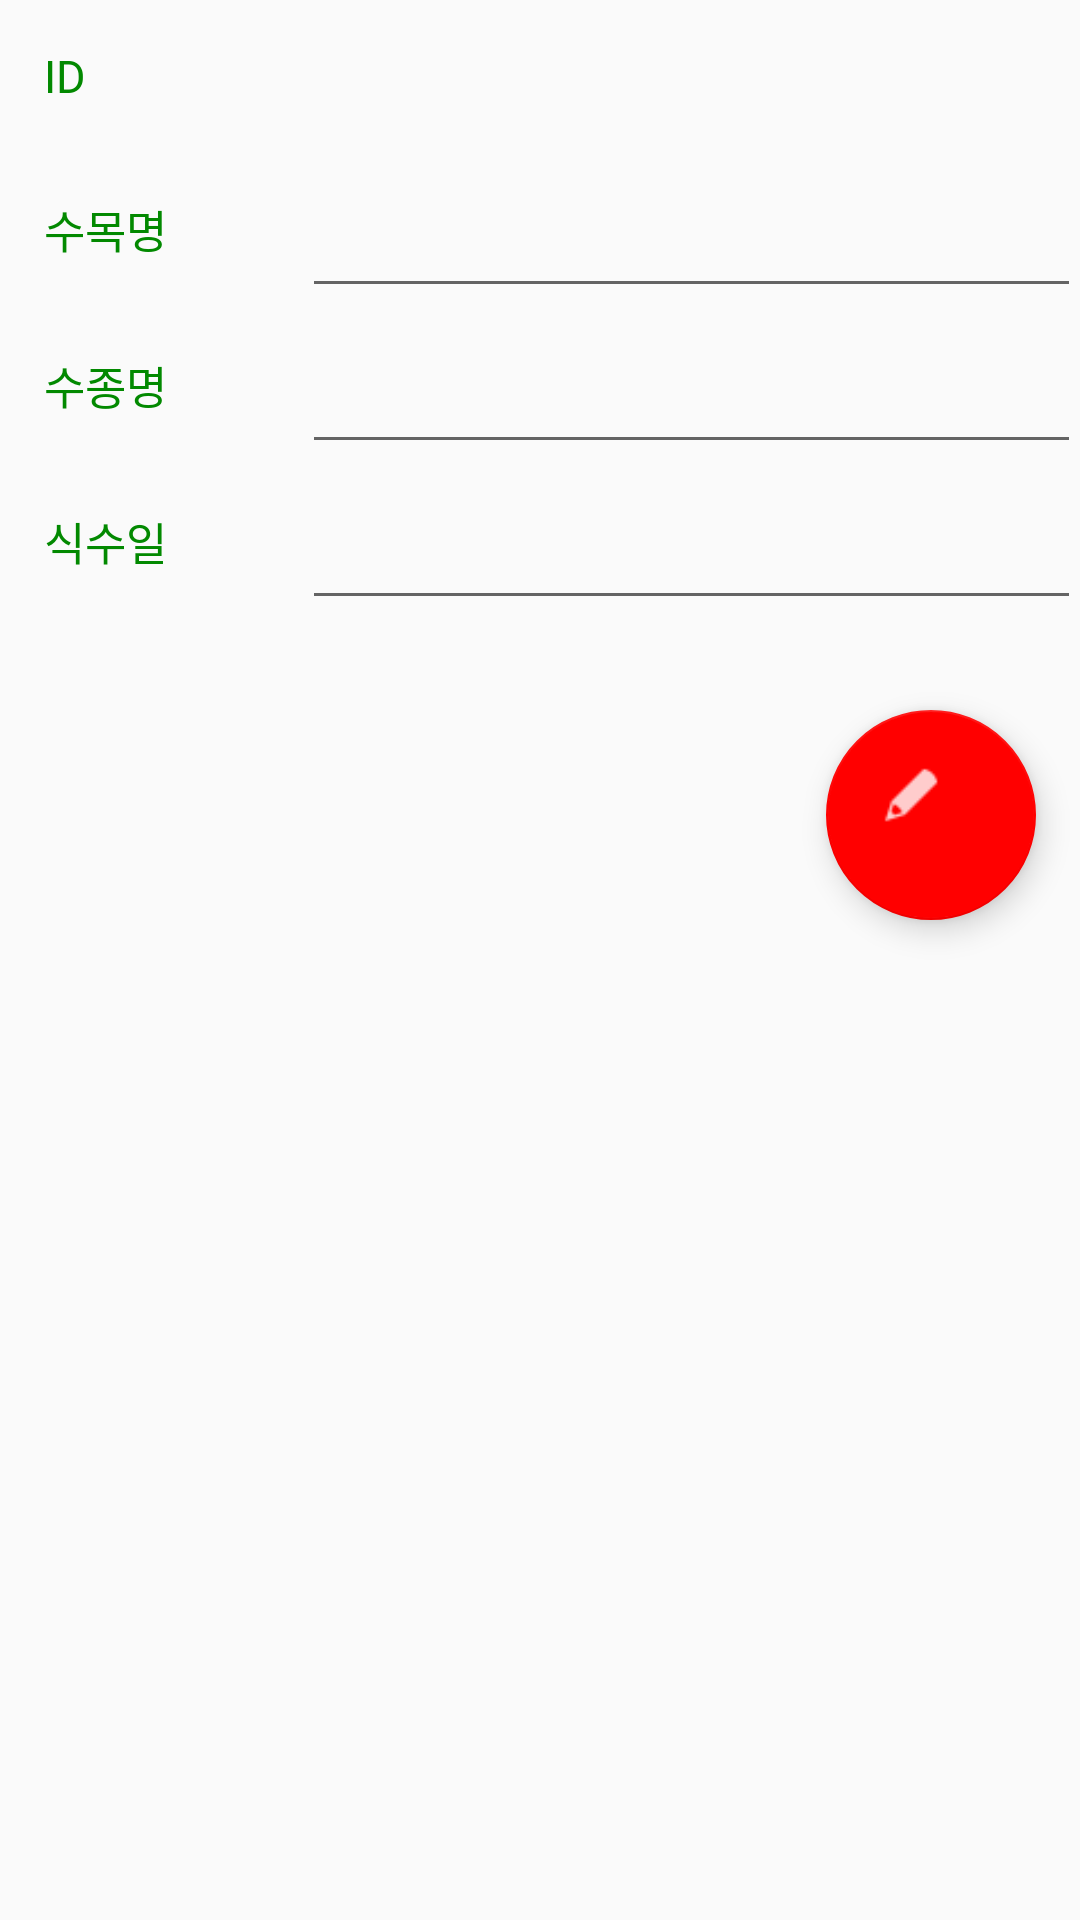

Point at icon controls on the screen. Image size 1080px×1920px, points as (x,y).
action: (931,815)
